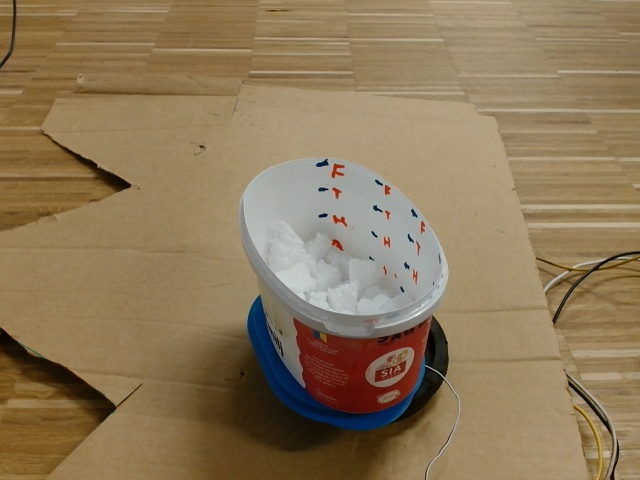Big_quarter: (239, 155, 453, 336)
